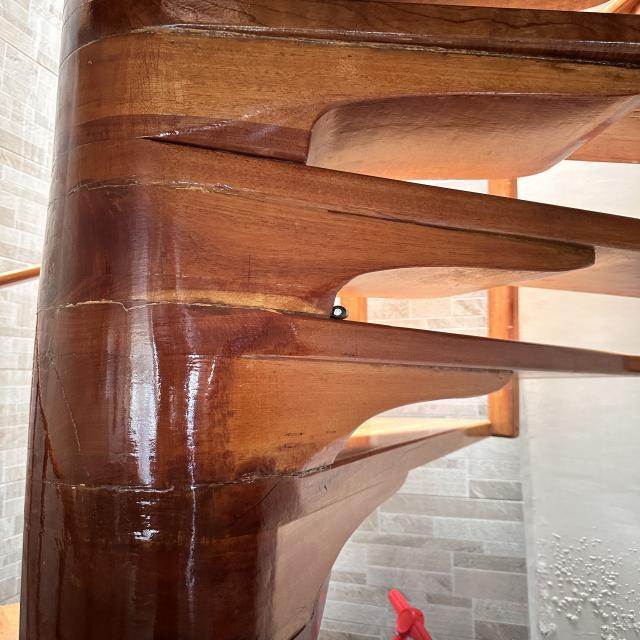hidden camera: (333, 306, 345, 318)
